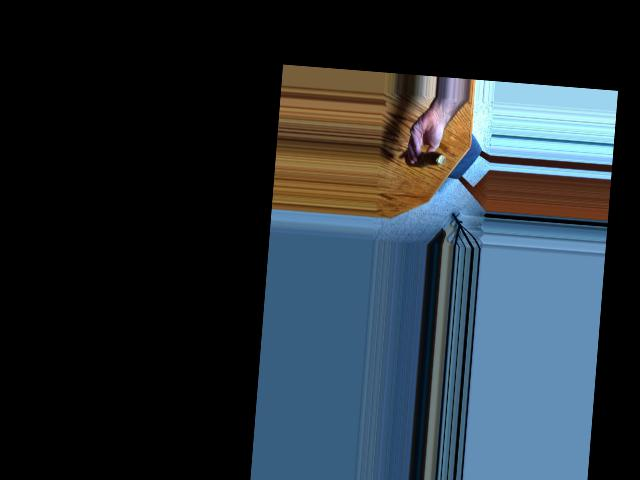sweet_potato: (406, 148, 439, 169)
